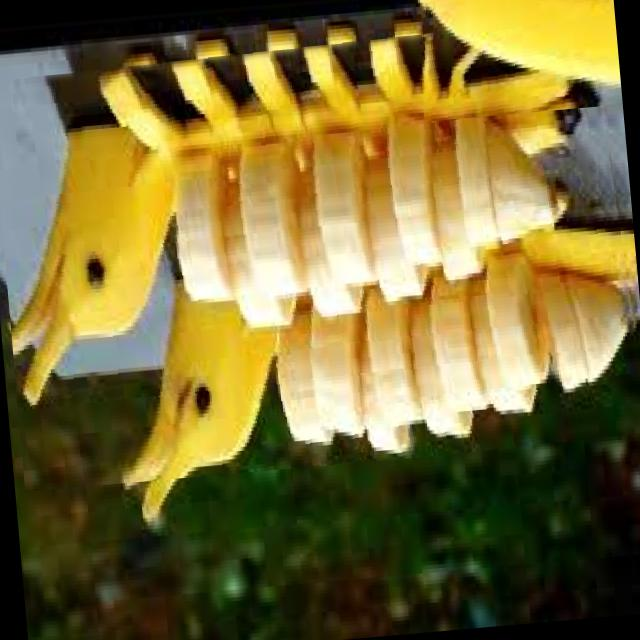Organic: (0, 12, 640, 490), (409, 0, 622, 120)
